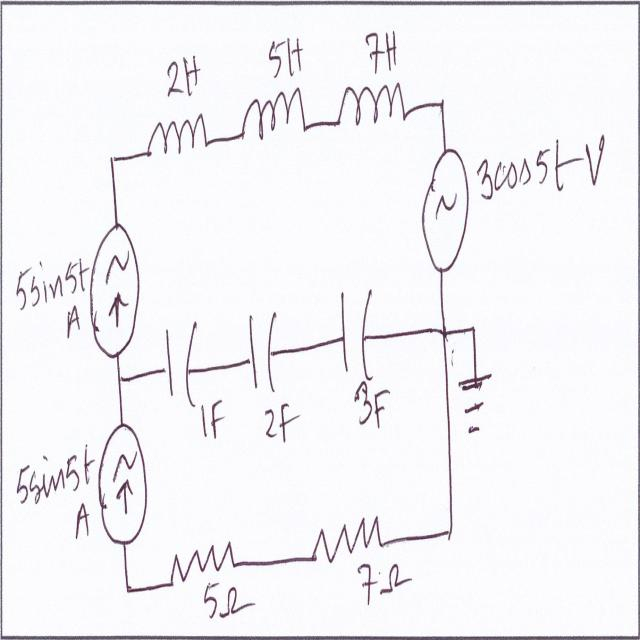capacitor: (338, 274, 383, 382), (163, 314, 201, 419), (247, 302, 279, 405)
current_source: (90, 228, 142, 356), (423, 143, 471, 280), (101, 420, 149, 545)
ground: (456, 368, 495, 461)
inductor: (238, 76, 311, 150), (337, 72, 409, 132), (147, 111, 209, 165)
resistor: (168, 533, 242, 585), (311, 510, 384, 562)
